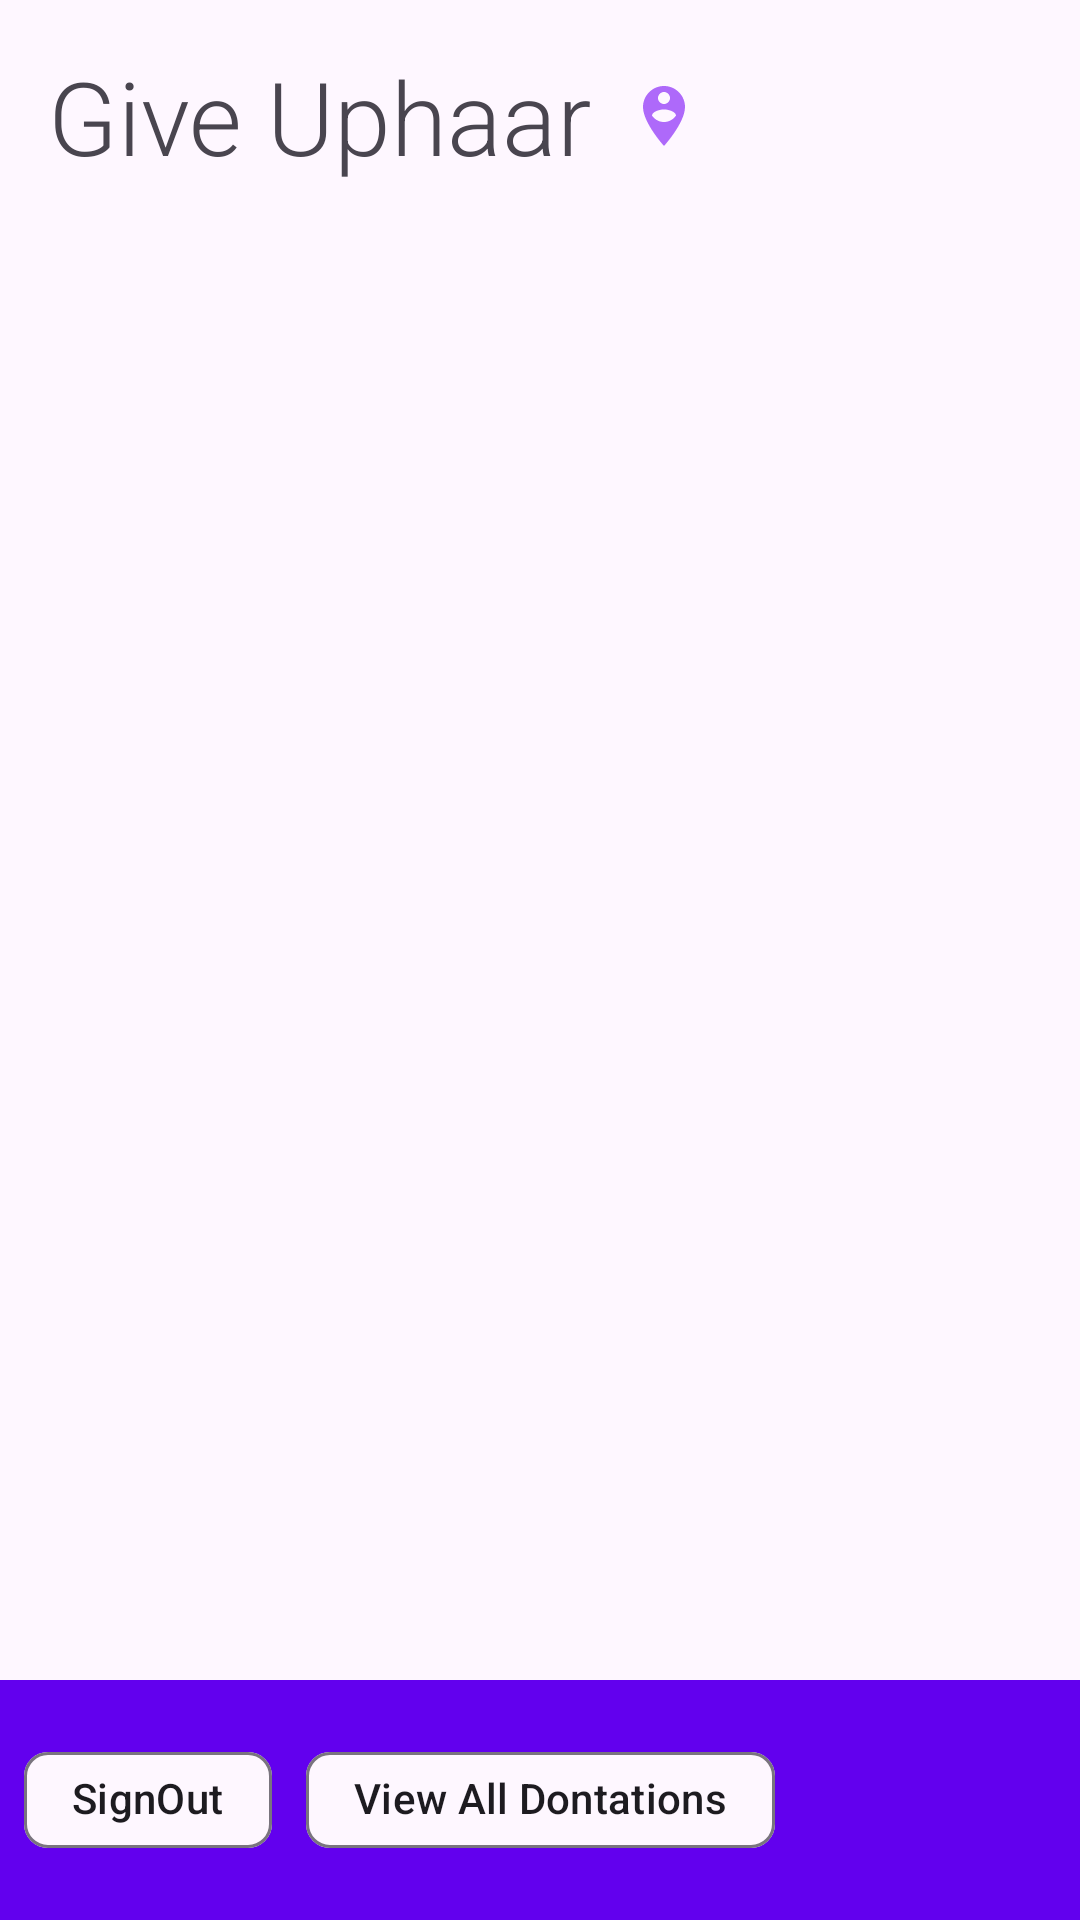

Named icons in this screenshot (1080*1920) and their centers, point (x, y):
person pin circle: point (664, 116)
